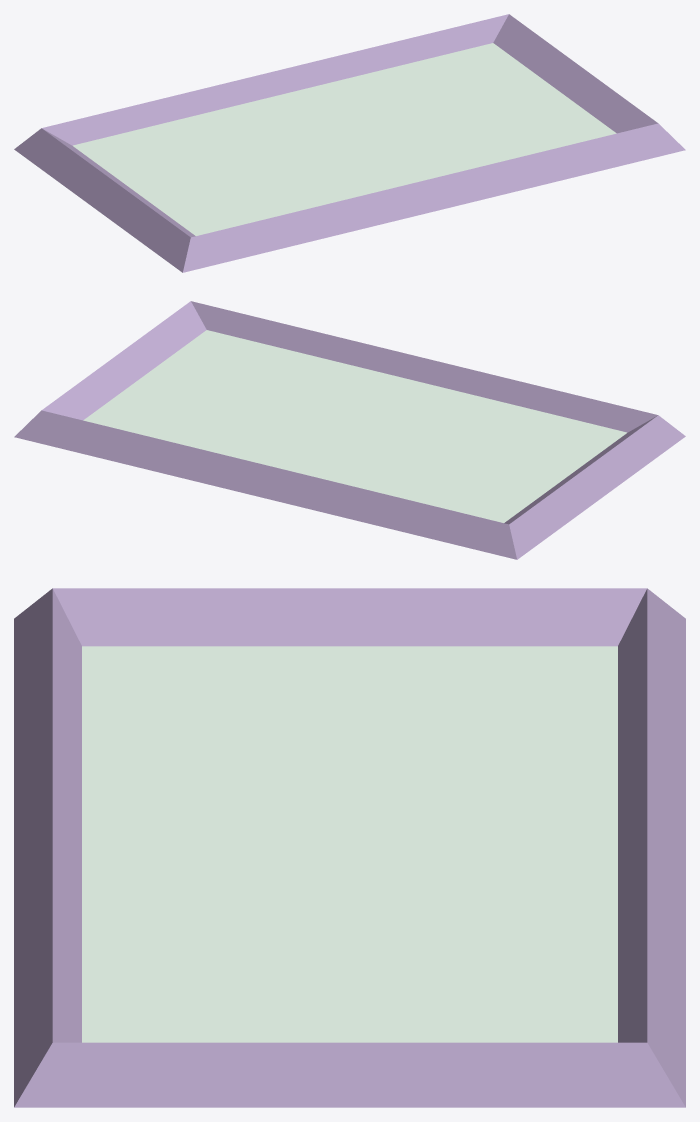
3 renders of one model, top to bottom at view 1: azimuth 30°, elevation 25°; view 2: azimuth 150°, elevation 25°; view 3: azimuth 270°, elevation 25°, orthographic. The views are drawn at different scales.
Visible parts, largest first — view 1: Object98; view 2: Object98; view 3: Object98.
Part boxes in pixels (x1,y1,x2,y2): Object98: (14, 14, 685, 272); Object98: (14, 301, 685, 559); Object98: (14, 588, 685, 1107).
Bounding box in the file's own units: 16900 × 770 × 9815.
